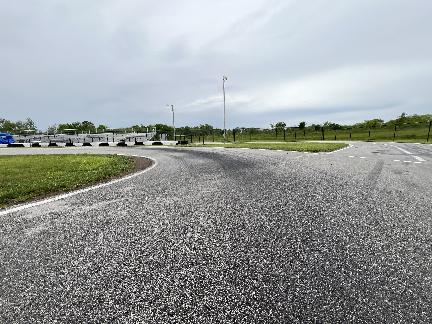Grass: (0, 154, 134, 207), (200, 143, 348, 152)
Lane: (0, 143, 431, 323)
